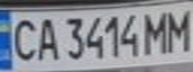1: (103, 11, 124, 58)
3: (60, 14, 84, 61)
4: (118, 10, 142, 57), (84, 12, 106, 61)
A: (33, 14, 60, 62)
C: (6, 15, 39, 62)
M: (139, 7, 172, 55), (163, 6, 193, 53)
